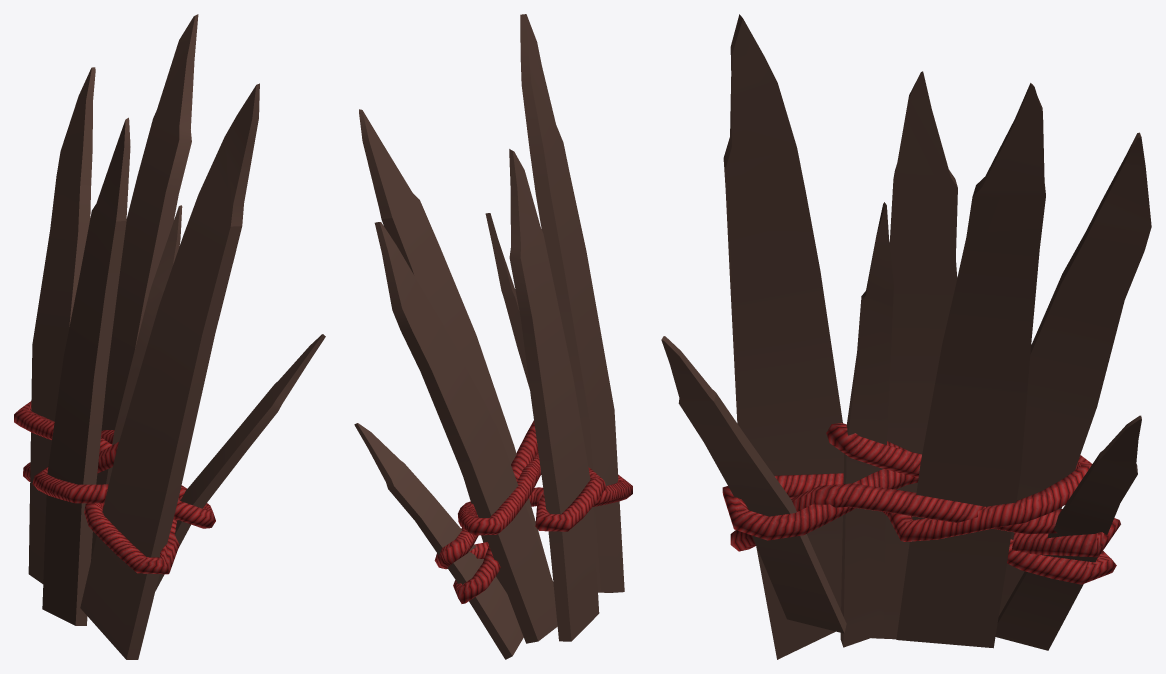
Rendered from StickSpikes.fbx.
The picture shows the model from 3 angles, left to right: view 1: azimuth 30°, elevation 25°; view 2: azimuth 150°, elevation 25°; view 3: azimuth 270°, elevation 25°; orthographic projection. The views are drawn at different scales.
Parts seen in each view (by area): view 1: spikes, spikes.002, ropebase; view 2: spikes, spikes.002, ropebase; view 3: spikes, ropebase, spikes.002.
Part boxes in pixels (<box>): spikes: <box>28,14,325,659</box>; spikes.002: <box>42,117,130,625</box>; ropebase: <box>14,401,215,574</box>; spikes: <box>354,14,624,659</box>; spikes.002: <box>509,149,599,641</box>; ropebase: <box>434,420,632,603</box>; spikes: <box>661,14,1151,659</box>; ropebase: <box>722,423,1120,584</box>; spikes.002: <box>871,71,957,639</box>.
Size of the model in its own units: 172 by 474 by 297.
